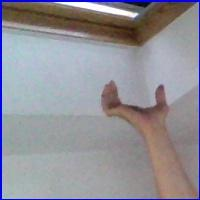space: (96, 77, 174, 132)
